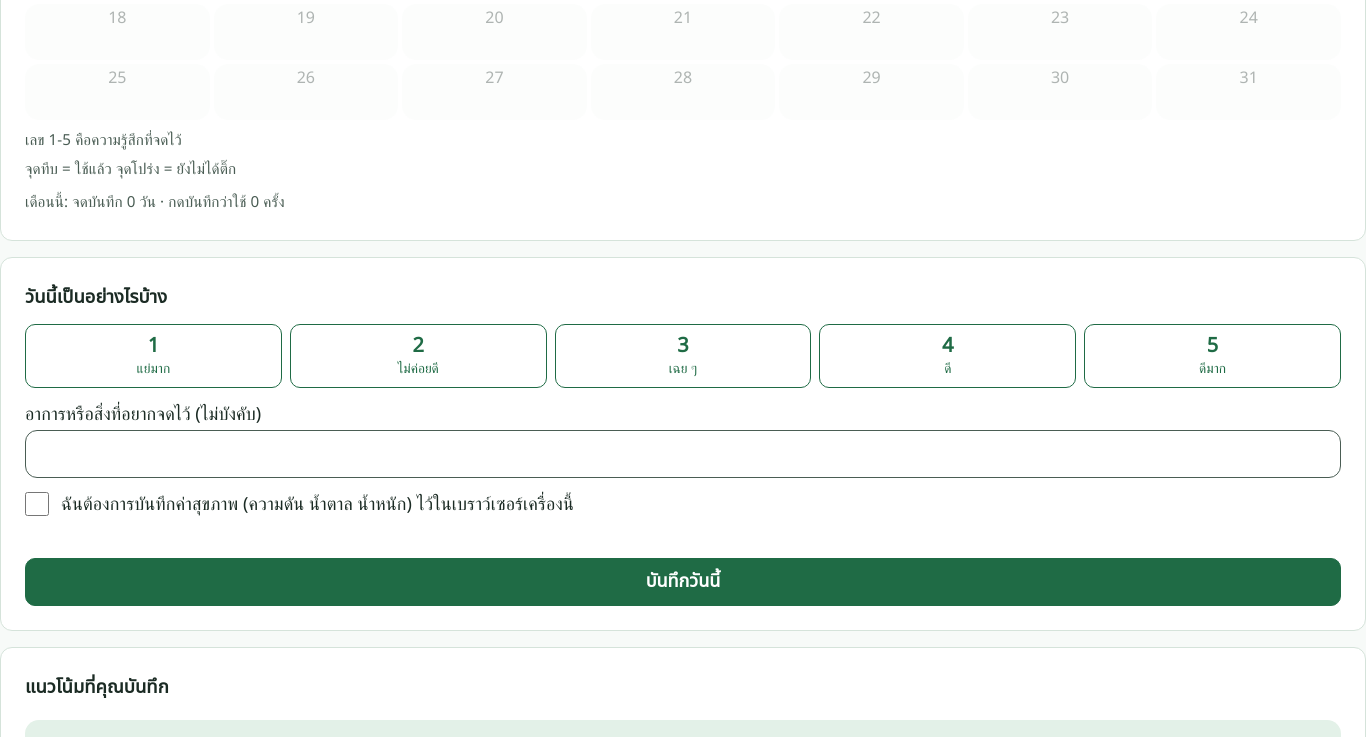
Test: บันทึกอารมณ์+อาการแล้วเห็นในสรุป และไม่มีคำแปลผลค่า
(page scrolled)
Click the radio button labelled "ดี" at (948, 356), box [819,324,1076,388]
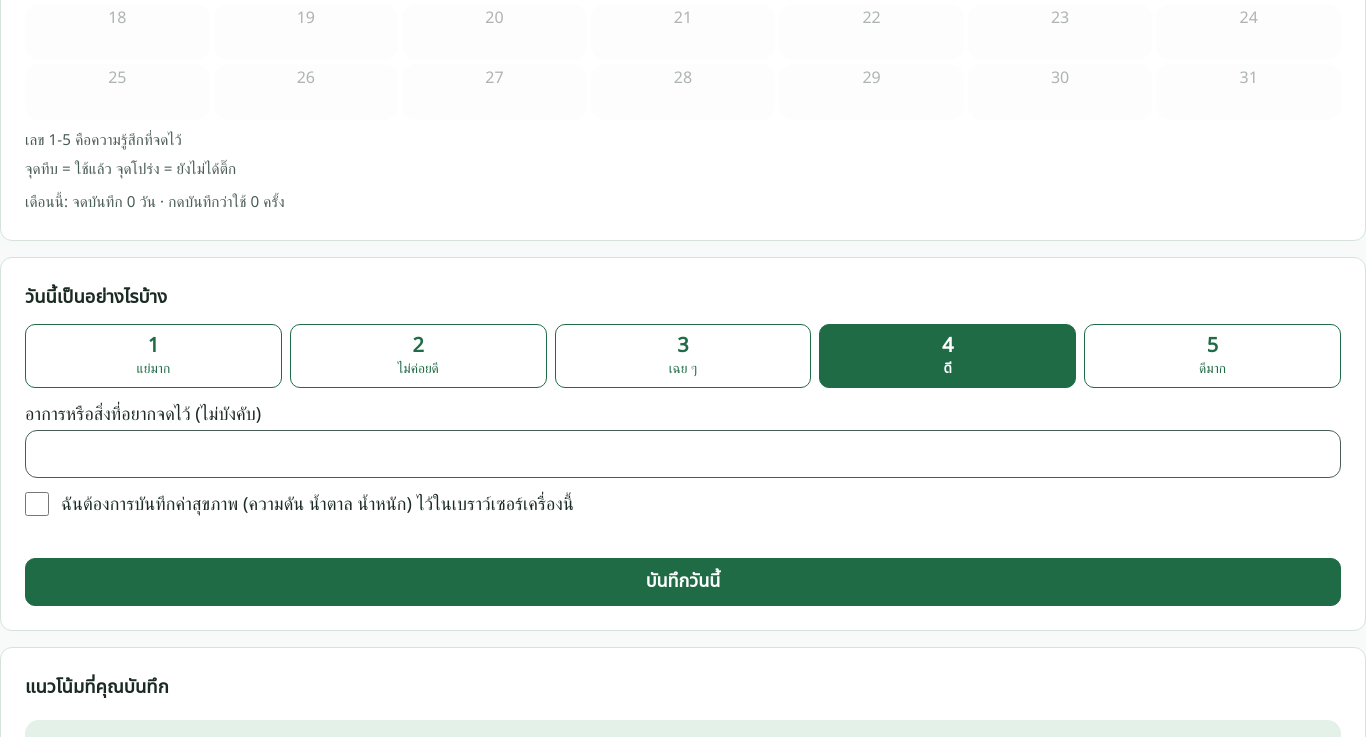
Type "ปวดหัวเล็กน้อย" into the field labelled "อาการหรือสิ่งที่อยากจดไว้ (ไม่บังคับ)" at (683, 454), box [25,430,1341,478]
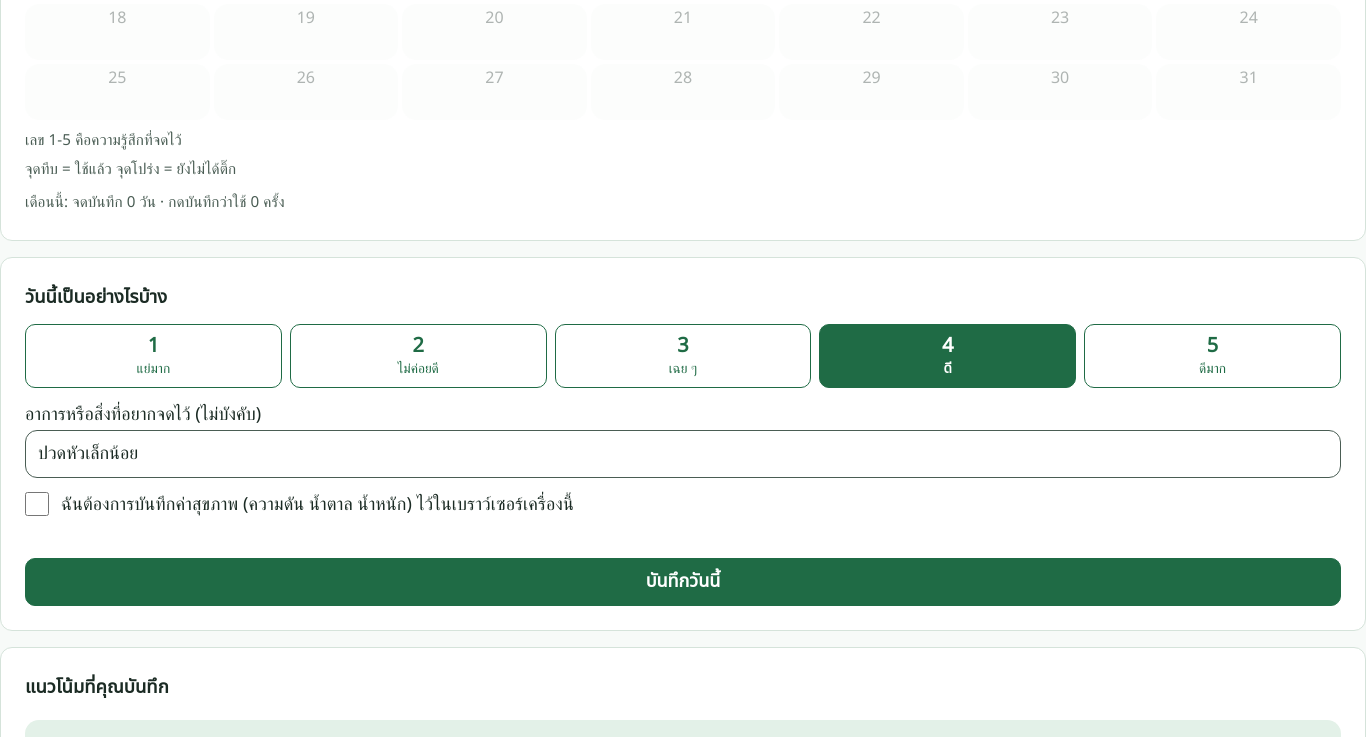
Click the button "บันทึกวันนี้" at (683, 582), box [25,558,1341,606]
(page scrolled)
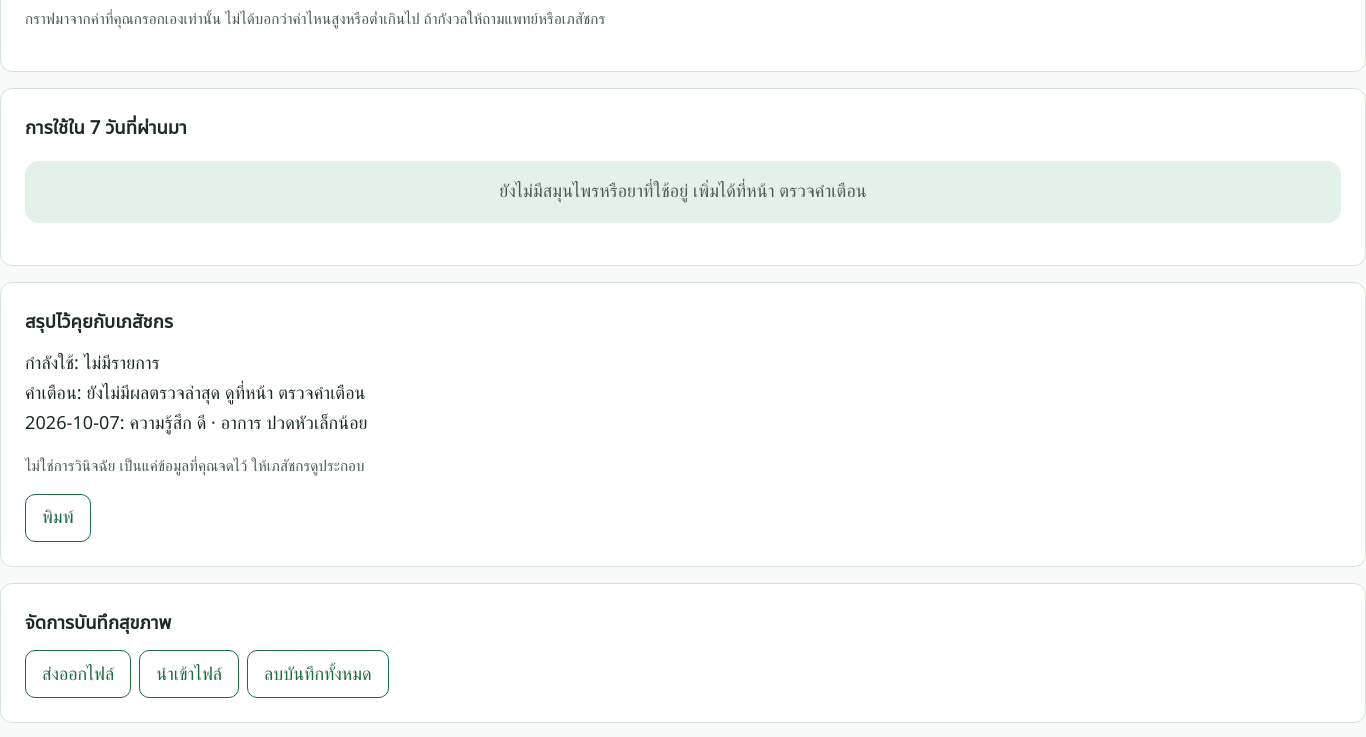
Expected: the list item "2026-10-07: ความรู้สึก ดี · อาการ ปวดหัวเล็กน้อย" is shown, [25,410,368,437]
